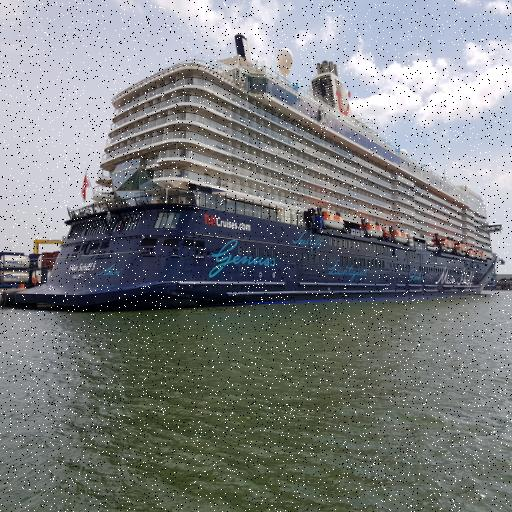cruises: (1, 34, 507, 318)
